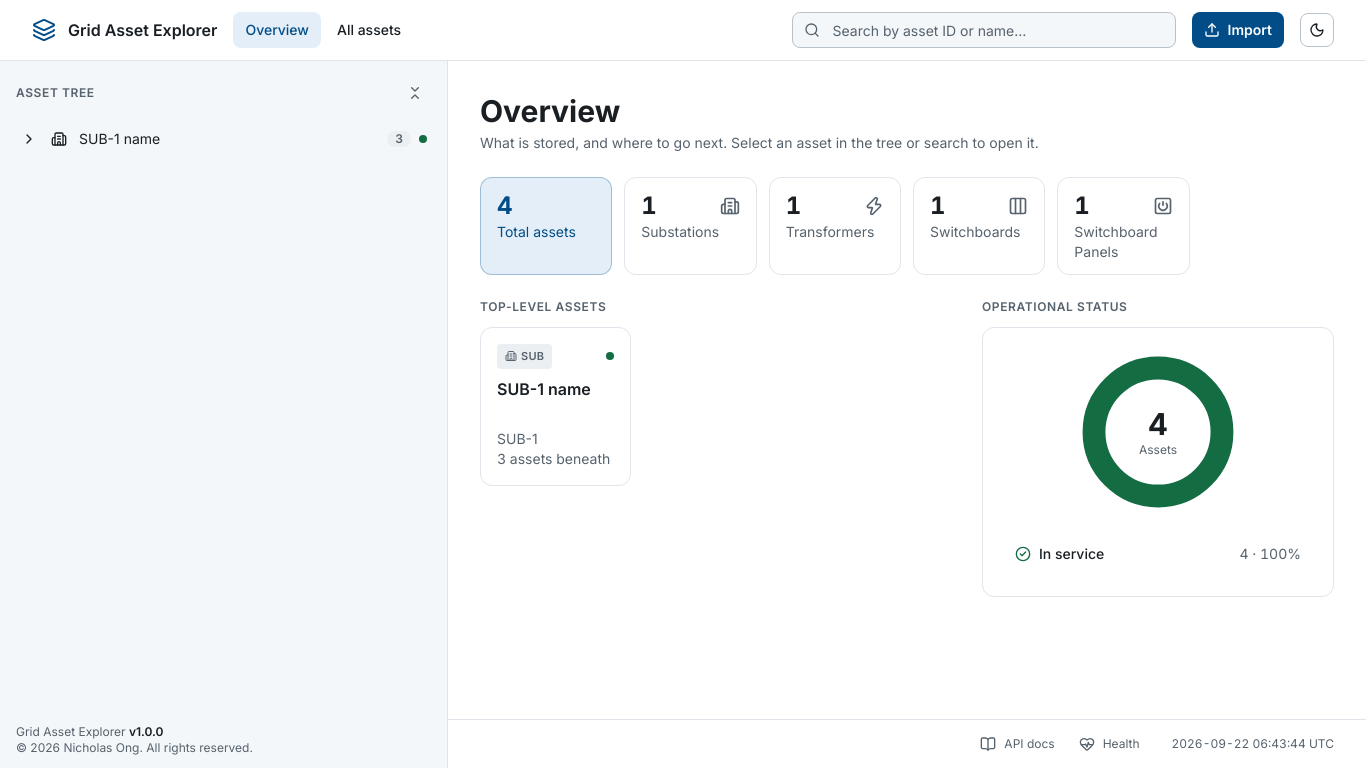
Scenario: SearchBar › search → Enter → ancestors → tree expanded → navigate → highlighted
Type "panel" into the dropdown named "search assets" at [984, 30], box [792,12,1176,48]
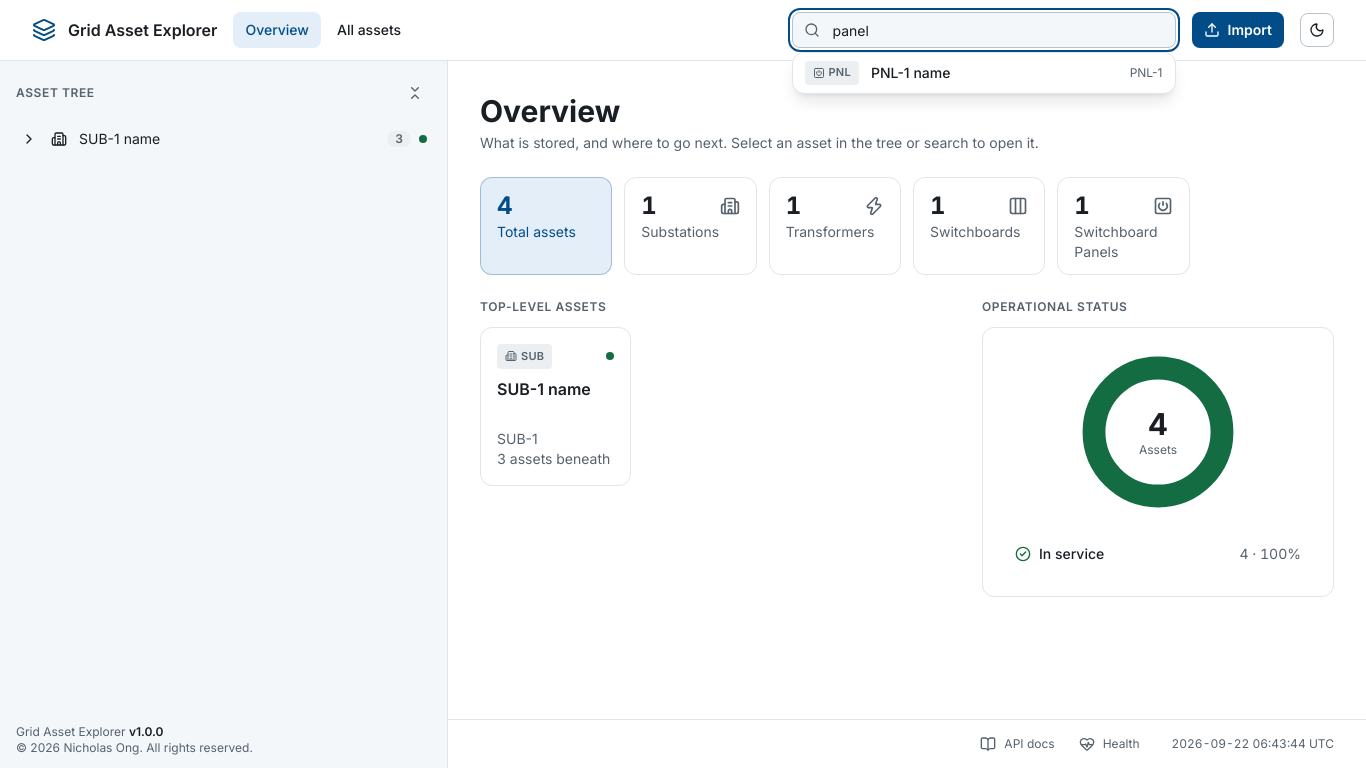
Check: the option "PNL PNL-1 name PNL-1" is shown, box [804,61,1162,85]
Press Arrowdown Enter
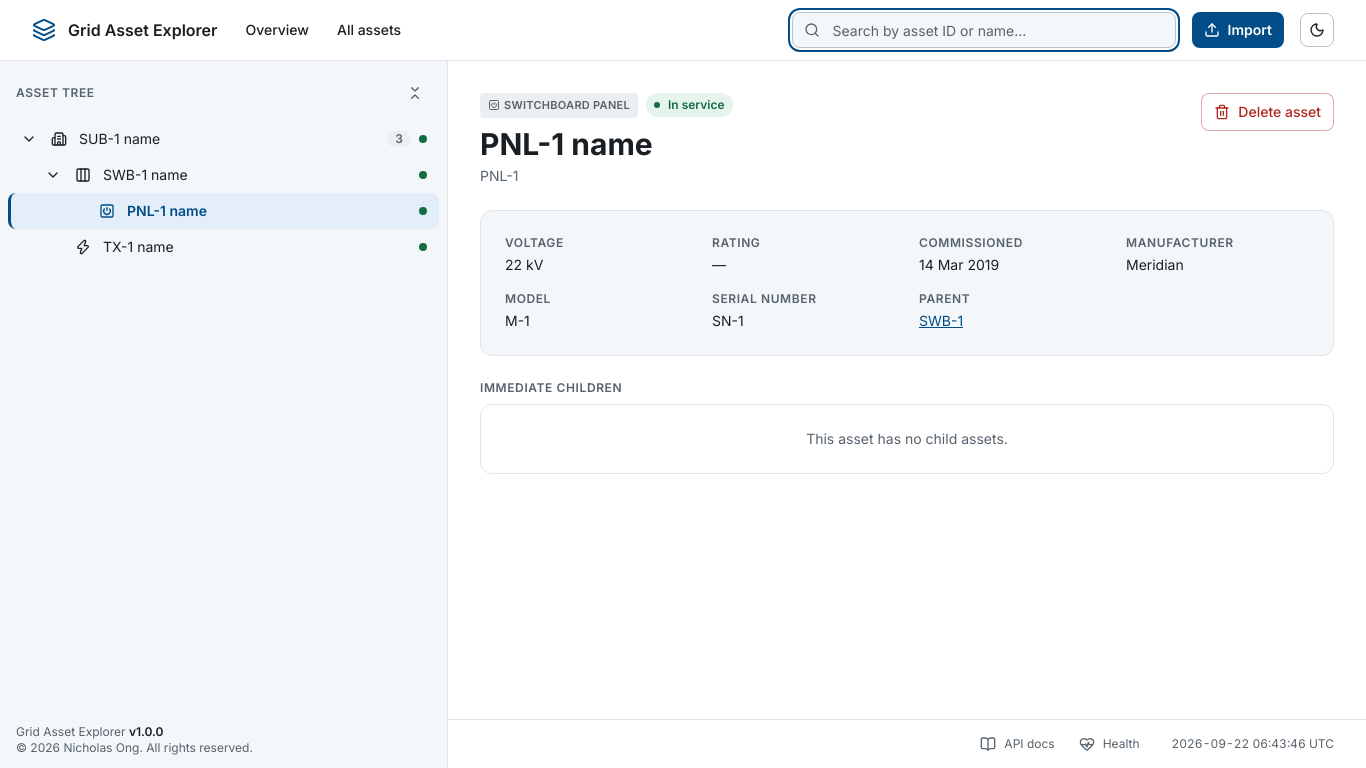
Check: the list item "SUB-1 name 3" is expanded, box [8,121,439,157]
Check: the dropdown named "search assets" is empty, box [792,12,1176,48]
